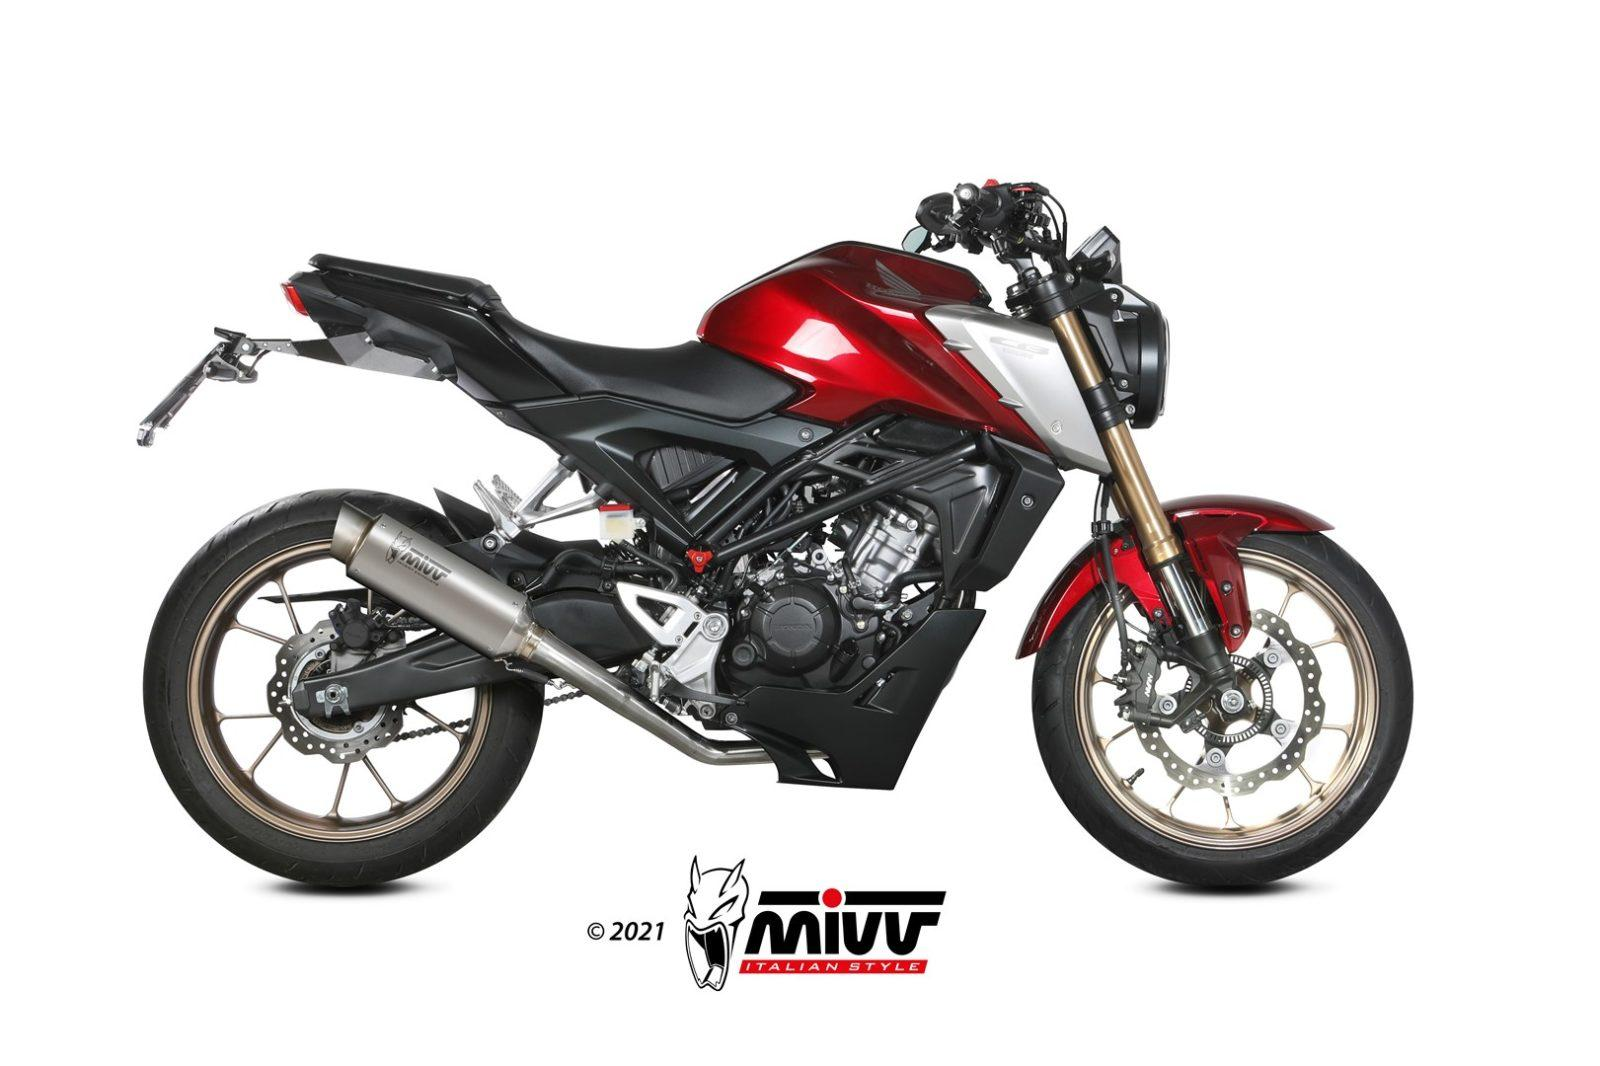engine-chasis: (601, 408, 1016, 790), (600, 540, 635, 559), (632, 529, 648, 554)
exhaust: (330, 500, 774, 765)
frontside: (924, 250, 1336, 728)
handlebar: (902, 178, 1122, 286)
motorbike: (137, 178, 1414, 888)
rearside: (134, 270, 840, 664), (293, 632, 527, 719)
seat: (308, 253, 798, 420)
tank: (697, 242, 1053, 456)
watermark: (684, 857, 947, 991), (586, 921, 673, 947)
wheel: (142, 488, 545, 886), (1031, 532, 1414, 886), (1091, 472, 1129, 691), (391, 725, 448, 742), (544, 690, 585, 707), (447, 716, 471, 730)
